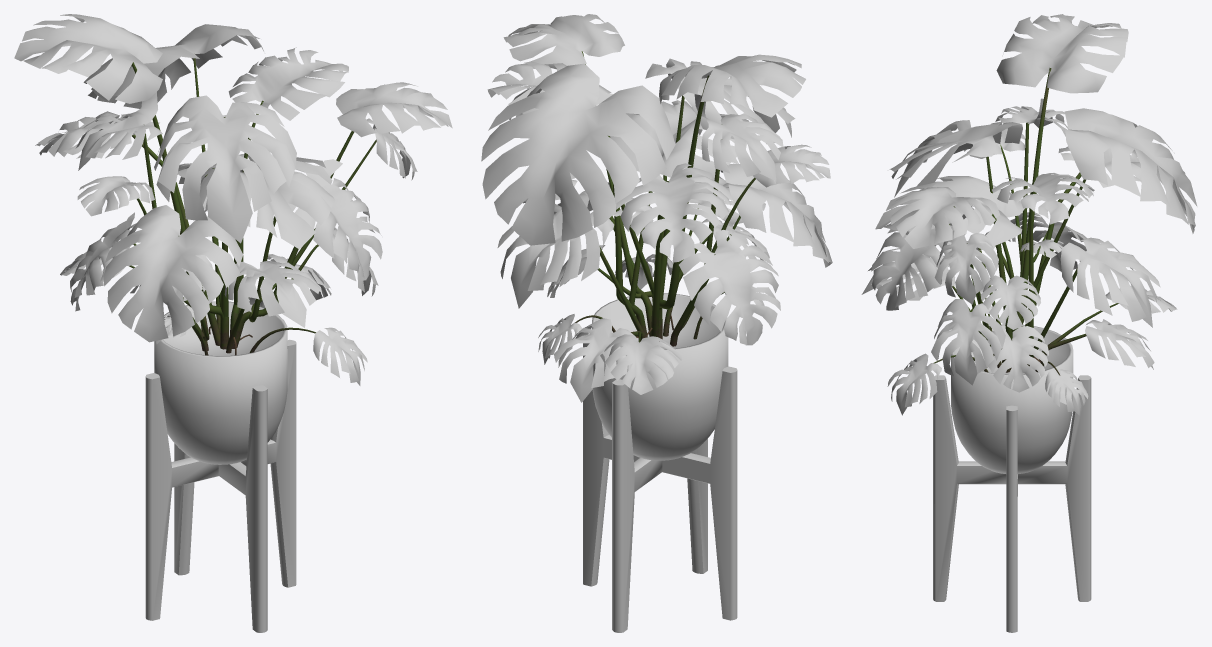
3 renders of one model, left to right at view 1: azimuth 30°, elevation 25°; view 2: azimuth 150°, elevation 25°; view 3: azimuth 270°, elevation 25°, orthographic. The views are drawn at different scales.
Parts seen in each view (by area): view 1: Leaves, Stand, Pot_LP, root_HP_1_Mat.2_0; view 2: Leaves, Stand, Pot_LP, root_HP_1_Mat.2_0; view 3: Leaves, Stand, Pot_LP, root_HP_1_Mat.2_0.
Boxes of the visible parts, bbox=[...] form: Leaves: bbox=[14, 14, 452, 385]; Stand: bbox=[145, 339, 296, 632]; Pot_LP: bbox=[154, 301, 287, 464]; root_HP_1_Mat.2_0: bbox=[129, 58, 376, 355]; Leaves: bbox=[481, 14, 832, 402]; Stand: bbox=[583, 333, 737, 632]; Pot_LP: bbox=[592, 293, 728, 460]; root_HP_1_Mat.2_0: bbox=[575, 51, 755, 346]; Leaves: bbox=[861, 14, 1197, 415]; Stand: bbox=[933, 375, 1091, 632]; Pot_LP: bbox=[951, 324, 1073, 473]; root_HP_1_Mat.2_0: bbox=[933, 68, 1118, 375].
Size of the model in its own units: 0.8695 by 1.36 by 0.7911.
